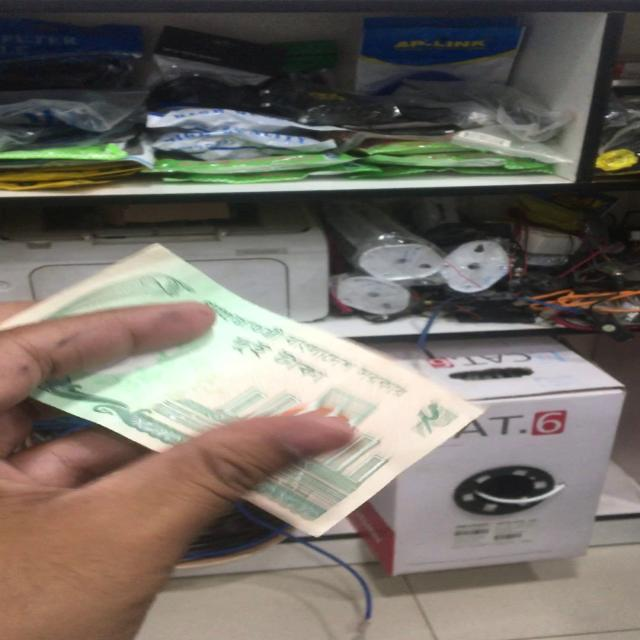Taka: (18, 245, 464, 523)
